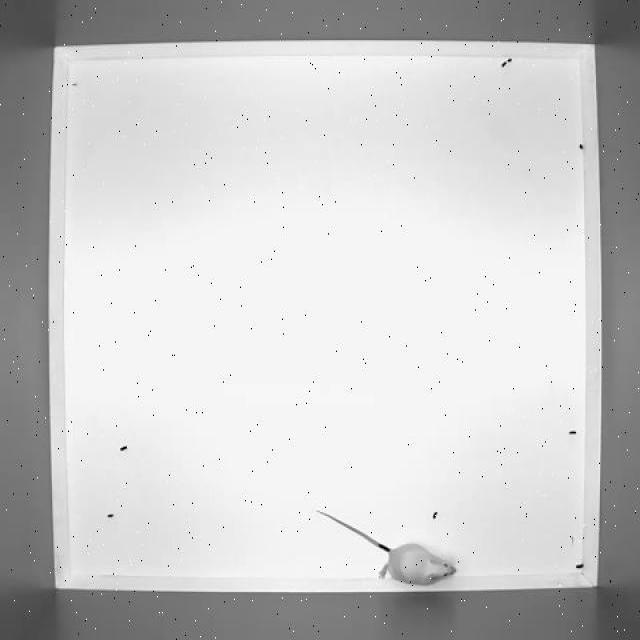rat: (313, 502, 459, 590)
